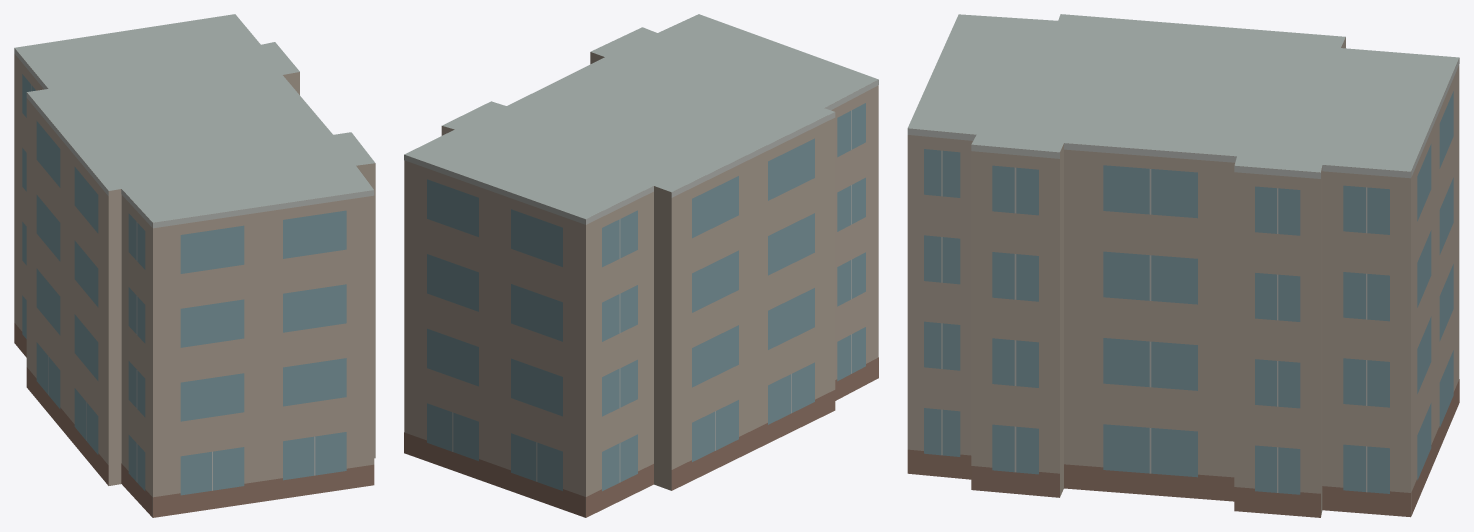
Rendered from survey-upis-32830298.glb.
3 renders of one model, left to right at view 1: azimuth 30°, elevation 25°; view 2: azimuth 150°, elevation 25°; view 3: azimuth 270°, elevation 25°, orthographic. The views are drawn at different scales.
Parts seen in each view (by area): view 1: survey-upis-32830298.tmp; view 2: survey-upis-32830298.tmp; view 3: survey-upis-32830298.tmp.
Part boxes in pixels (<box>): survey-upis-32830298.tmp: <box>14,14,375,517</box>; survey-upis-32830298.tmp: <box>404,14,878,517</box>; survey-upis-32830298.tmp: <box>907,14,1459,517</box>.
Bounding box in the file's own units: 12.71 × 12.9 × 18.69.
